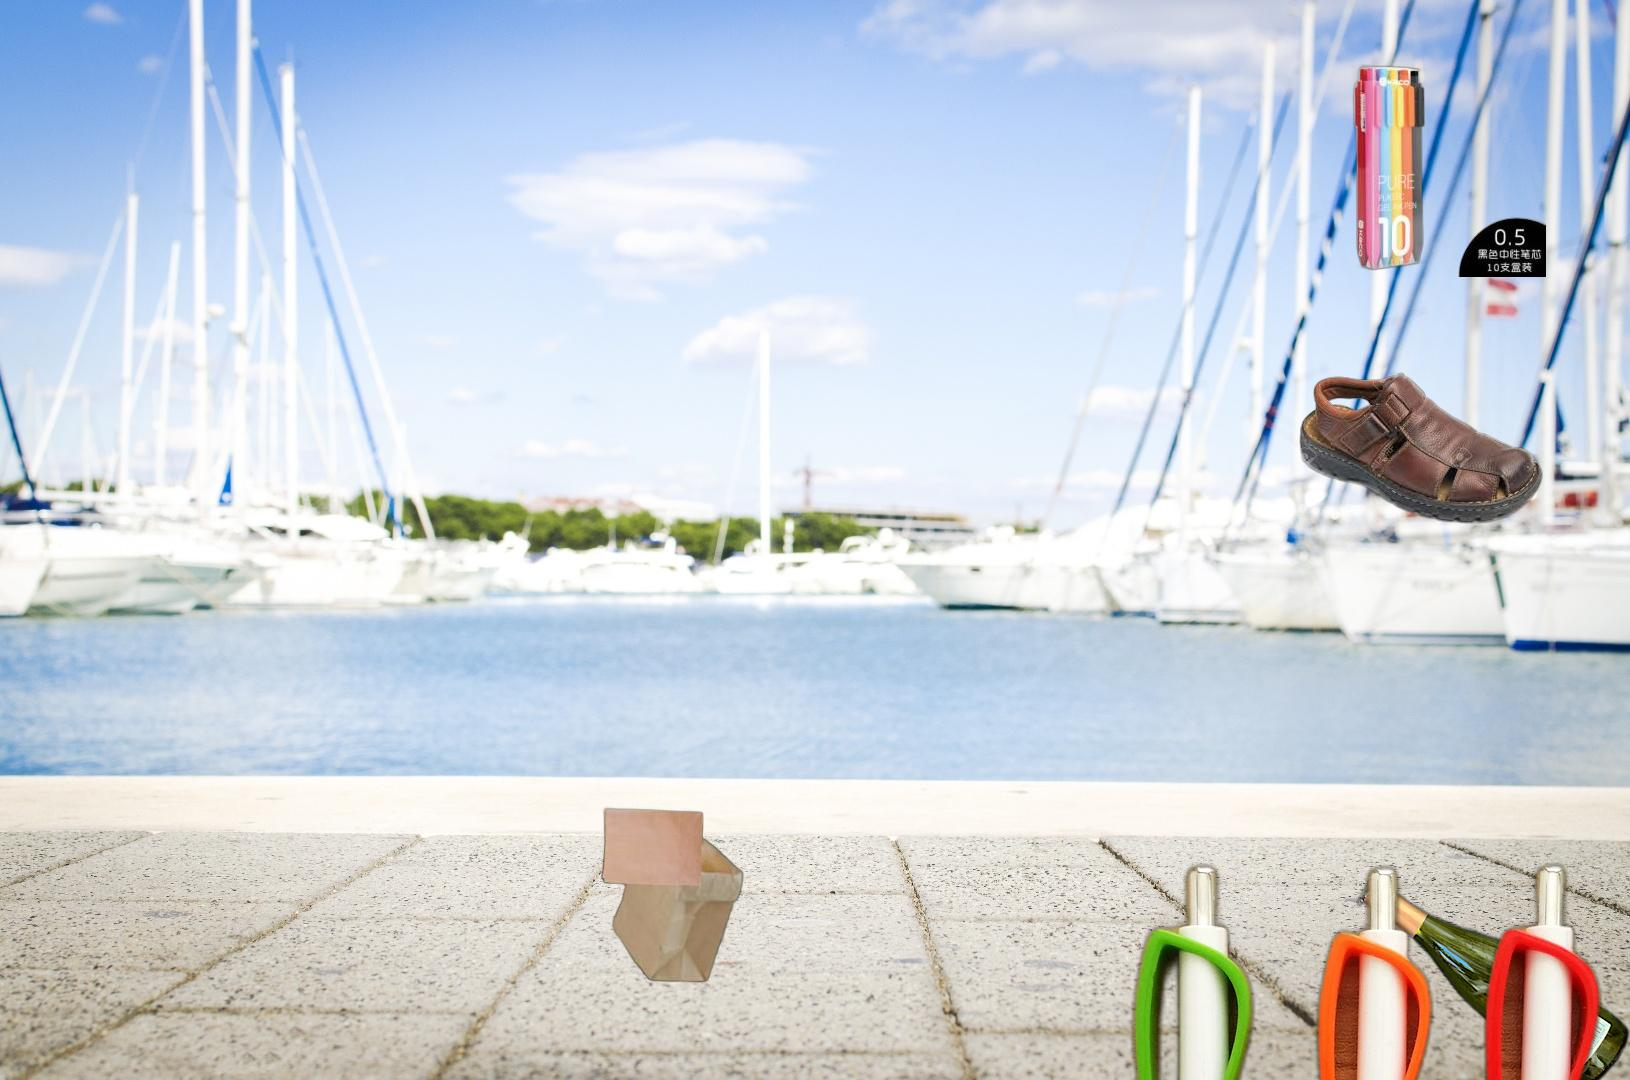glass: (1354, 873, 1630, 1080)
paper-bag: (599, 805, 746, 1049)
penholder: (1017, 855, 1630, 1080), (1349, 63, 1546, 277)
shoes: (1297, 370, 1544, 526)
